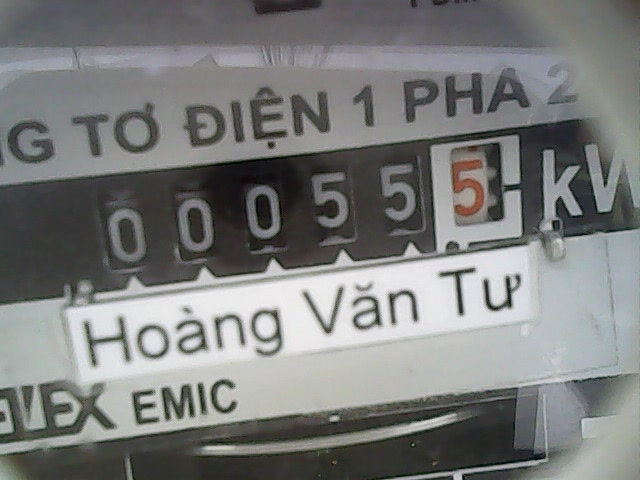phy_plate: (75, 134, 527, 272)
